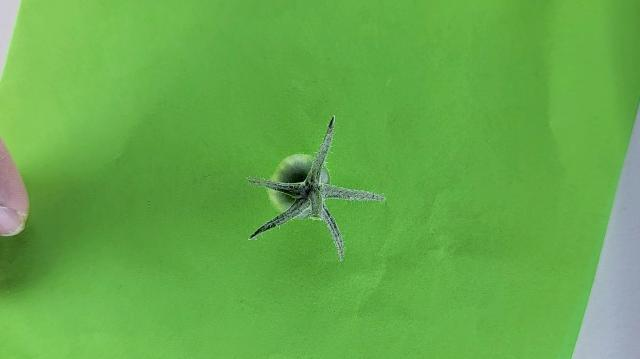Fruit Maturation: (268, 154, 328, 215)
